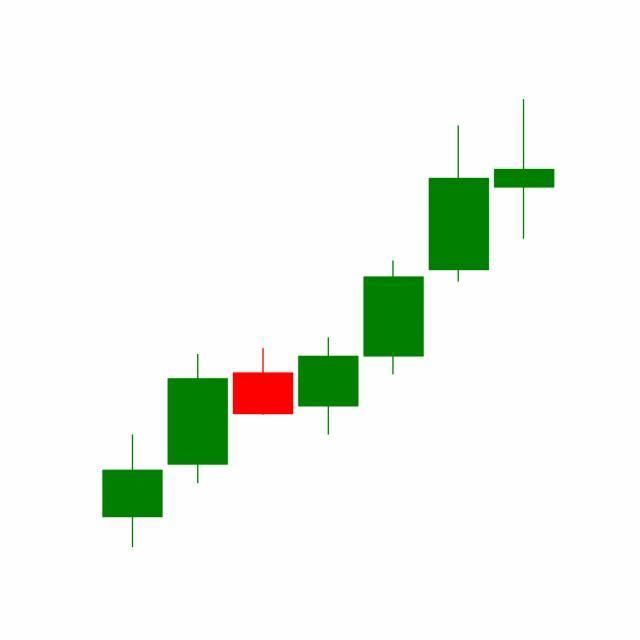Advance Block: (360, 99, 556, 380)
